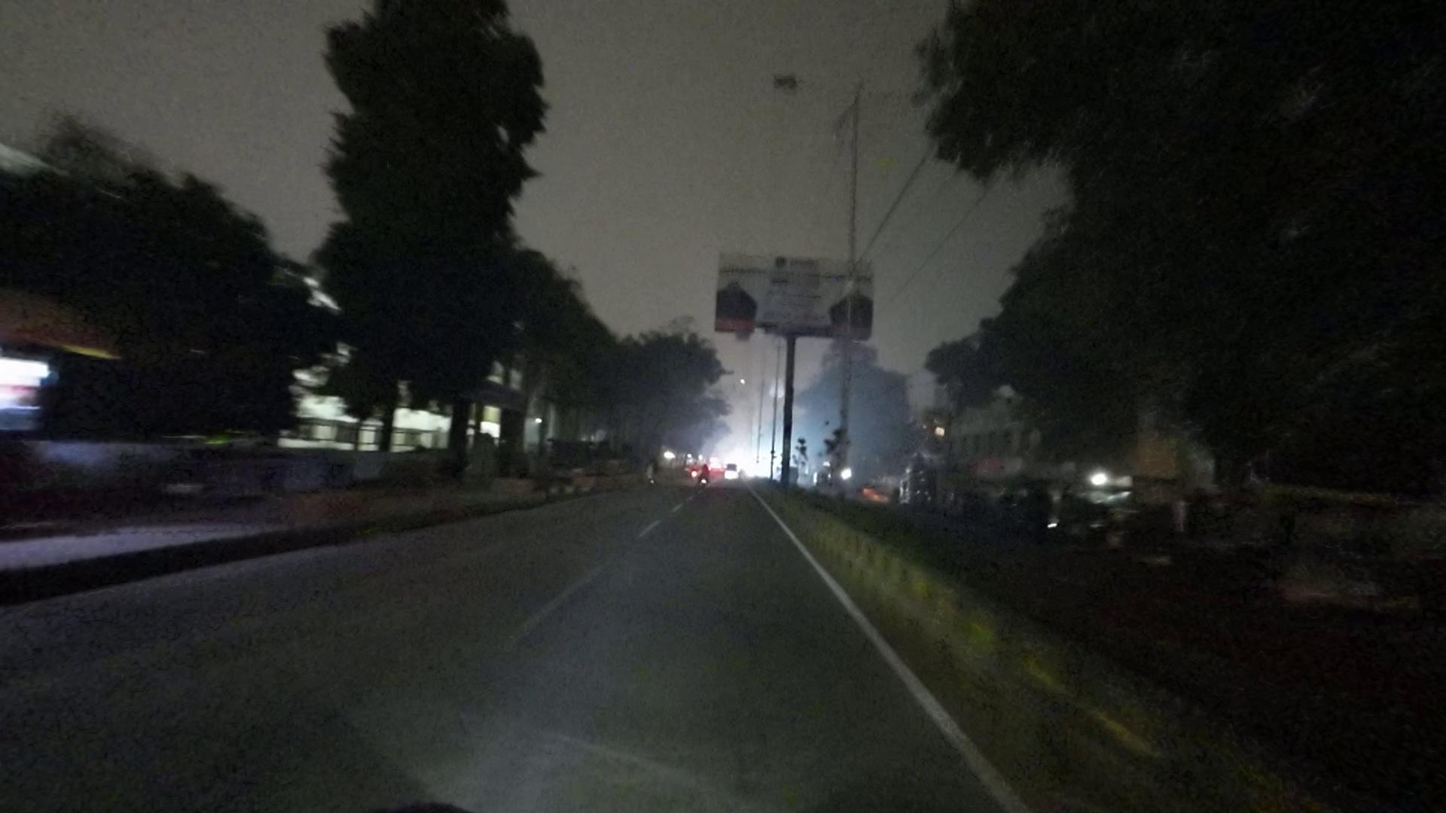streetlight: (771, 71, 853, 98)
